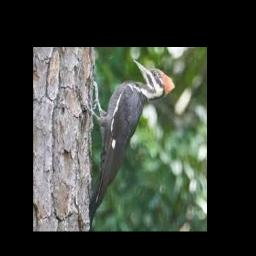Woodpecker: (88, 60, 176, 229)
